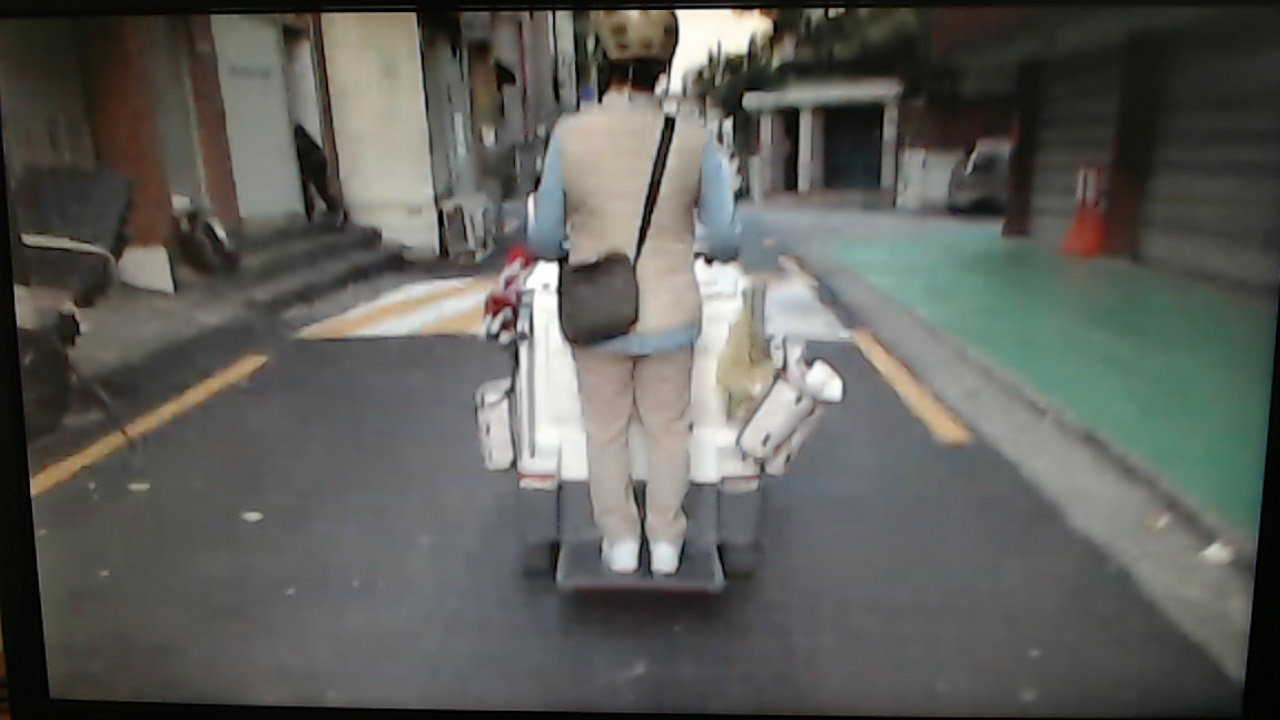Yakurut: (503, 12, 768, 579)
